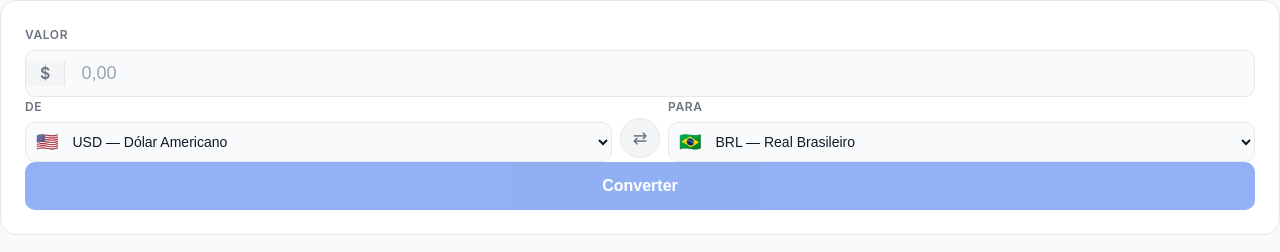
Conversor › botão inverter (⇄) › troca o par de moedas ao clicar
Click the button named "inverter moedas" at (640, 138), box [620,118,660,158]
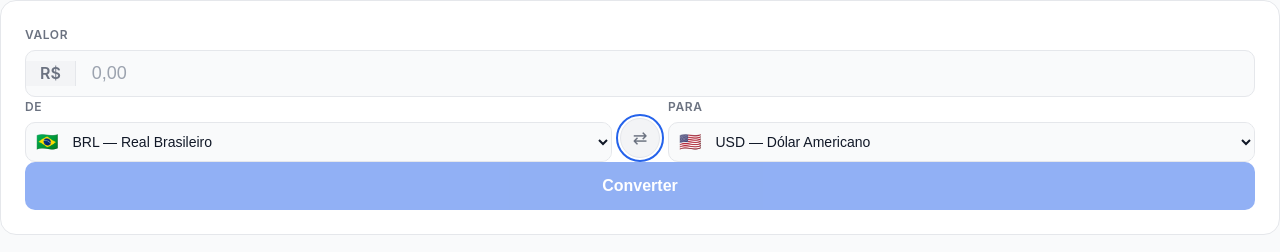
Check: the element named "BRL para USD" is shown
